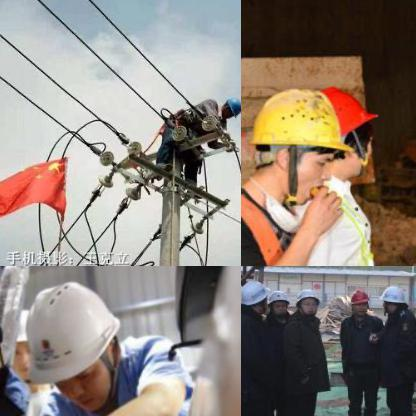Helmet: (6, 270, 124, 402), (249, 85, 345, 191), (318, 82, 380, 180), (241, 277, 268, 312), (378, 282, 406, 314), (294, 286, 318, 316), (264, 288, 288, 314), (218, 94, 240, 119), (348, 287, 368, 313)
